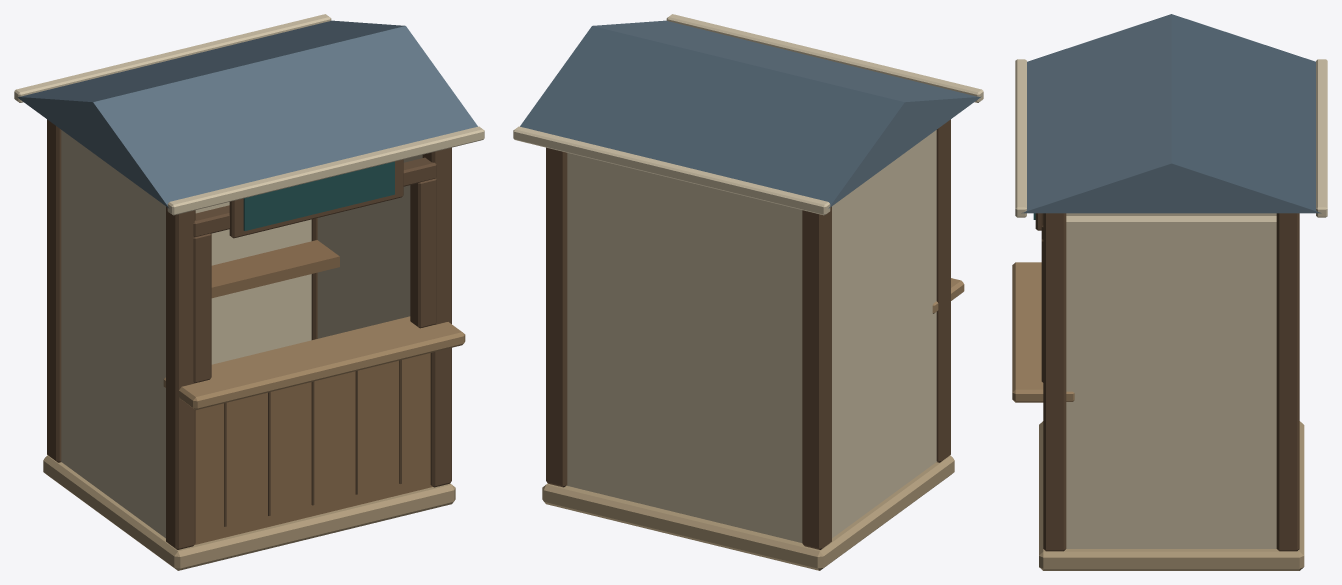
File: ticket_booth.glb
3 renders of one model, left to right at view 1: azimuth 30°, elevation 25°; view 2: azimuth 150°, elevation 25°; view 3: azimuth 270°, elevation 25°, orthographic. The views are drawn at different scales.
Visible parts, largest first — view 1: ticket_booth; view 2: ticket_booth; view 3: ticket_booth.
Part boxes in pixels (left/top/right/bottom): ticket_booth: left=14, top=14, right=484, bottom=570; ticket_booth: left=513, top=14, right=983, bottom=570; ticket_booth: left=1012, top=14, right=1327, bottom=570.
Size of the model in its own units: 2 by 2.6 by 1.78.
